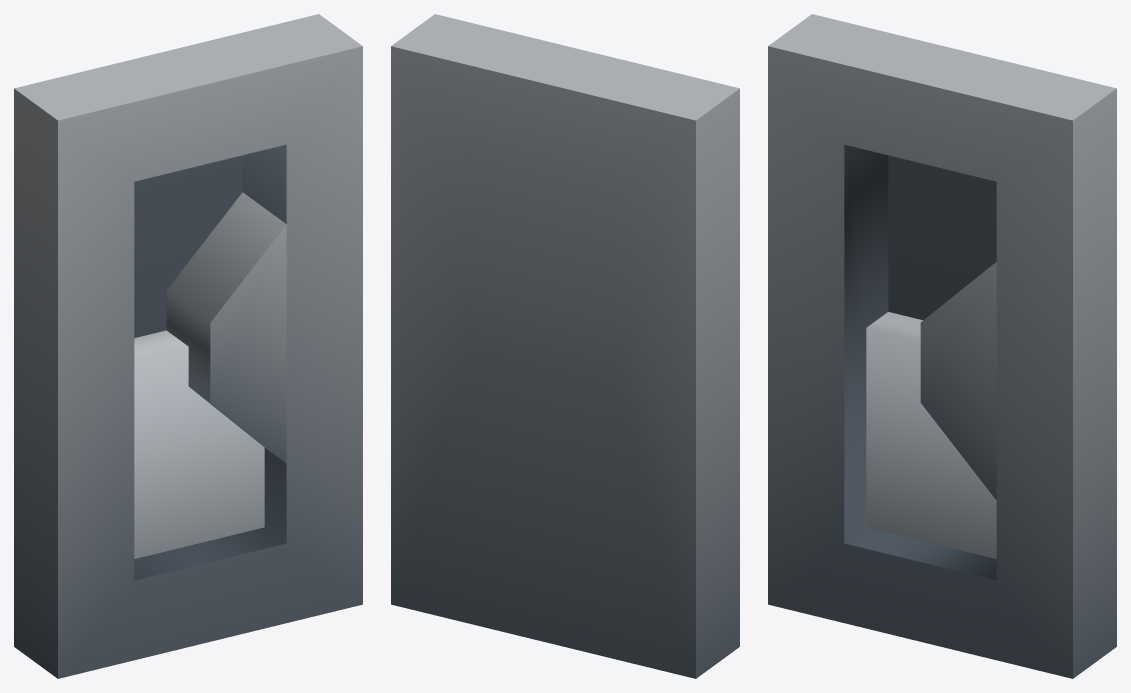
File: door-single-closed.glb
3 views of the same model, side by side, from view 1: azimuth 30°, elevation 25°; view 2: azimuth 150°, elevation 25°; view 3: azimuth 330°, elevation 25° (orthographic).
Visible parts, largest first — view 1: door-single-closed; view 2: door-single-closed; view 3: door-single-closed.
Boxes of the visible parts, box(x1,y1,x2,y2) form: door-single-closed: box(14, 14, 362, 678); door-single-closed: box(391, 14, 739, 678); door-single-closed: box(768, 14, 1116, 678).
Bounding box in the file's own units: 0.4 × 0.7 × 0.1.
